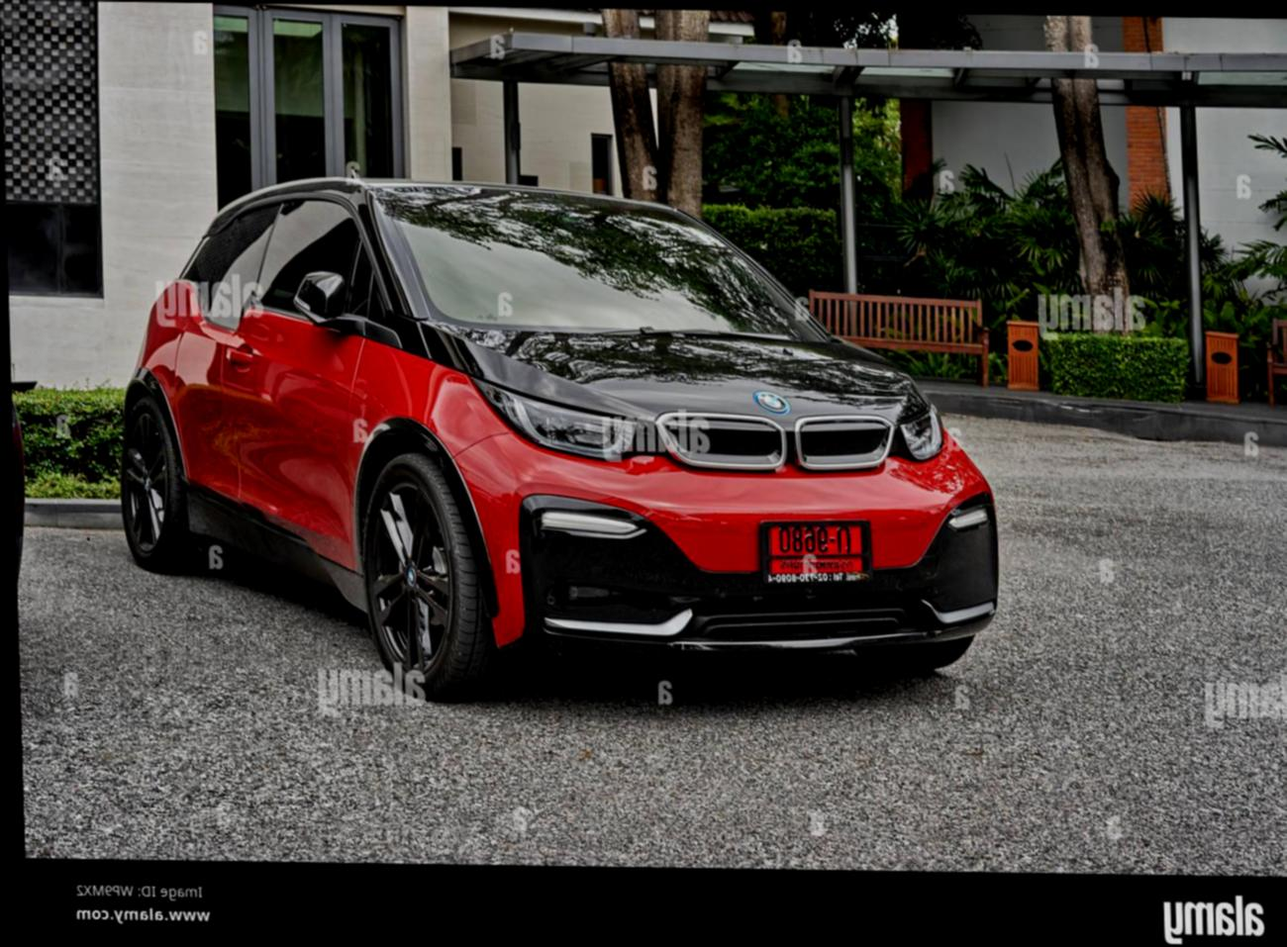License_Plate: (754, 517, 873, 588)
